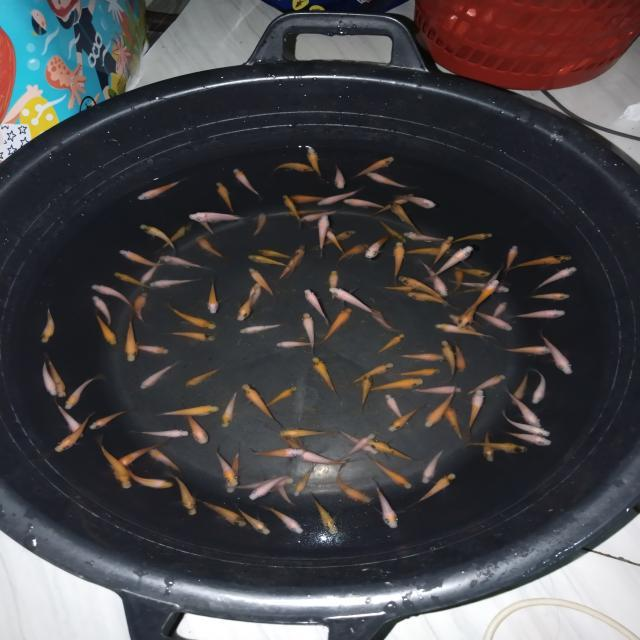nila: (240, 382, 284, 428), (110, 438, 172, 470), (52, 410, 96, 454), (538, 330, 576, 378), (424, 382, 462, 429), (398, 272, 450, 306), (96, 440, 130, 492), (91, 282, 140, 318), (164, 301, 218, 333), (427, 246, 474, 282), (198, 498, 243, 534), (505, 388, 543, 430), (121, 463, 178, 491), (508, 251, 576, 274), (412, 472, 457, 506), (370, 480, 400, 530), (154, 218, 198, 252), (334, 466, 373, 504), (310, 353, 342, 399), (502, 408, 554, 436), (64, 373, 102, 411), (442, 314, 490, 344), (370, 458, 413, 491), (134, 176, 186, 203), (53, 398, 88, 438), (417, 443, 449, 486), (138, 222, 180, 254), (310, 492, 340, 536), (434, 322, 500, 342), (138, 360, 179, 392), (345, 361, 395, 387), (180, 403, 210, 446), (532, 265, 578, 293), (329, 288, 374, 316), (301, 288, 334, 326), (266, 505, 306, 536), (320, 308, 354, 344), (366, 438, 419, 461), (149, 448, 191, 477), (388, 198, 420, 236), (248, 474, 288, 504), (386, 405, 426, 435), (42, 354, 68, 400), (236, 505, 272, 538), (173, 474, 200, 518), (368, 192, 416, 216), (466, 386, 489, 436), (352, 154, 396, 180), (153, 402, 220, 419), (226, 476, 296, 492), (470, 310, 516, 334), (408, 291, 458, 313), (338, 432, 377, 460), (466, 279, 498, 313), (425, 235, 456, 270), (311, 227, 358, 250), (118, 248, 166, 270), (184, 364, 224, 390), (88, 406, 133, 429), (340, 429, 378, 456), (462, 440, 530, 455), (316, 186, 362, 208), (292, 462, 320, 498), (294, 448, 350, 466), (506, 370, 534, 406), (422, 263, 449, 300), (231, 165, 261, 198), (194, 234, 229, 262), (188, 208, 249, 224), (466, 372, 506, 396), (452, 278, 512, 294), (246, 266, 276, 298), (383, 393, 412, 426), (158, 253, 211, 271), (526, 369, 551, 407), (261, 384, 299, 409), (211, 451, 238, 486), (146, 276, 204, 292), (443, 402, 466, 442), (164, 327, 218, 344), (368, 377, 424, 393), (376, 218, 409, 245), (333, 243, 370, 267), (233, 287, 259, 321), (453, 302, 484, 330), (224, 446, 242, 494), (366, 170, 409, 190), (247, 446, 304, 461), (393, 191, 438, 210), (502, 432, 555, 448), (272, 471, 296, 506), (355, 372, 375, 414), (364, 232, 394, 260), (320, 225, 348, 255), (38, 356, 58, 398), (285, 242, 307, 280), (314, 212, 332, 258), (268, 428, 302, 452), (459, 280, 509, 296), (220, 388, 240, 428), (123, 340, 173, 356), (373, 332, 406, 356), (128, 426, 194, 438), (214, 180, 238, 213), (95, 312, 118, 346), (404, 244, 456, 259), (111, 270, 148, 291), (123, 314, 139, 362), (409, 382, 463, 396), (390, 239, 408, 281), (280, 192, 334, 206), (39, 303, 57, 345), (496, 344, 554, 357), (371, 306, 397, 335), (300, 310, 316, 357), (244, 253, 294, 268), (137, 258, 163, 286), (508, 308, 568, 320), (92, 294, 114, 326), (274, 255, 300, 282), (278, 194, 302, 223), (304, 146, 324, 180), (448, 232, 496, 246), (272, 428, 338, 438), (298, 210, 338, 226), (403, 232, 455, 244), (342, 197, 390, 210), (272, 161, 320, 174), (252, 246, 296, 260), (502, 242, 521, 274), (442, 339, 456, 382), (396, 351, 446, 363), (481, 268, 504, 294), (236, 322, 284, 334), (452, 339, 468, 374), (136, 288, 150, 328), (394, 367, 444, 378), (326, 270, 342, 304), (481, 428, 496, 464), (250, 210, 269, 238), (451, 264, 466, 296), (528, 292, 574, 302), (456, 266, 494, 278), (206, 276, 218, 314), (378, 282, 419, 293), (331, 160, 346, 190), (488, 300, 510, 320), (197, 214, 217, 236), (248, 281, 262, 309), (284, 208, 323, 218), (274, 341, 318, 348)
